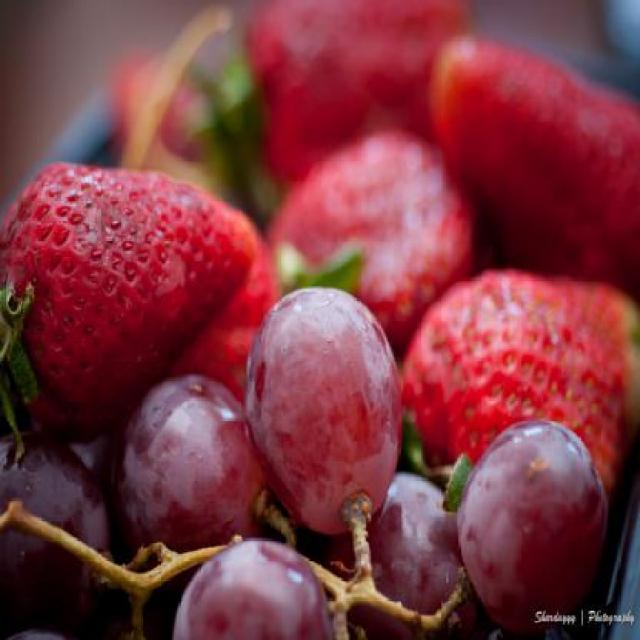Strawberry: (0, 160, 262, 448), (398, 262, 639, 493), (426, 44, 640, 267), (264, 122, 478, 342)
